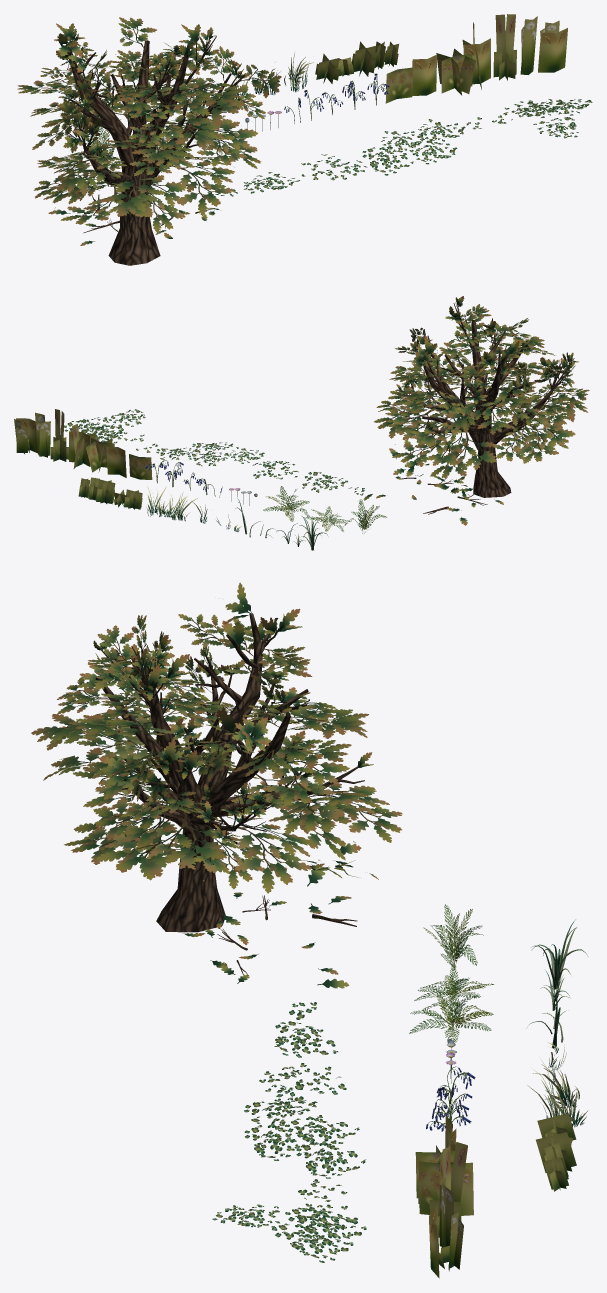
Rendered from plantsAndOrganicsFinal_edit_for_FBX.fbx.
3 renders of one model, top to bottom at view 1: azimuth 30°, elevation 25°; view 2: azimuth 150°, elevation 25°; view 3: azimuth 270°, elevation 25°, orthographic. The views are drawn at different scales.
Parts seen in each view (by area): view 1: Tree01, grass04, plants03, plants05, plants07, grass05, plants02, plants04, plants01, plants06, grass20, grass22 (+3 smaller); view 2: Tree01, grass05, grass04, plants04, plants07, plants05, plants03, plants06, plants08, plants02, plants01, plants10 (+3 smaller); view 3: Tree01, grass04, grass05, plants04, plants08, plants07, plants10, plants09.
Part boxes in pixels (<box>): Tree01: <box>17,17,281,265</box>; grass04: <box>362,119,465,175</box>; plants03: <box>436,48,476,95</box>; plants05: <box>493,14,516,80</box>; plants07: <box>538,20,567,72</box>; grass05: <box>466,99,592,138</box>; plants02: <box>412,54,436,95</box>; plants04: <box>462,22,490,89</box>; plants01: <box>385,67,413,103</box>; plants06: <box>520,16,537,74</box>; grass20: <box>351,41,376,76</box>; grass22: <box>315,53,339,83</box>; Tree01: <box>363,296,589,525</box>; grass05: <box>64,409,157,452</box>; grass04: <box>156,442,264,465</box>; plants04: <box>69,424,95,468</box>; plants07: <box>14,418,37,453</box>; plants05: <box>50,409,68,461</box>; plants03: <box>86,437,114,472</box>; plants06: <box>35,412,50,457</box>; plants08: <box>263,486,309,521</box>; plants02: <box>106,446,126,477</box>; plants01: <box>129,454,152,479</box>; plants10: <box>343,499,386,533</box>; Tree01: <box>31,582,402,988</box>; grass04: <box>244,1100,365,1178</box>; grass05: <box>212,1179,366,1262</box>; plants04: <box>418,1142,473,1215</box>; plants08: <box>409,975,493,1043</box>; plants07: <box>429,1206,463,1278</box>; plants10: <box>423,904,483,969</box>; plants09: <box>414,965,493,1007</box>.
Size of the model in its own units: 21732 by 7623 by 12485.
